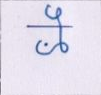ai_matra: (45, 5, 68, 25)
